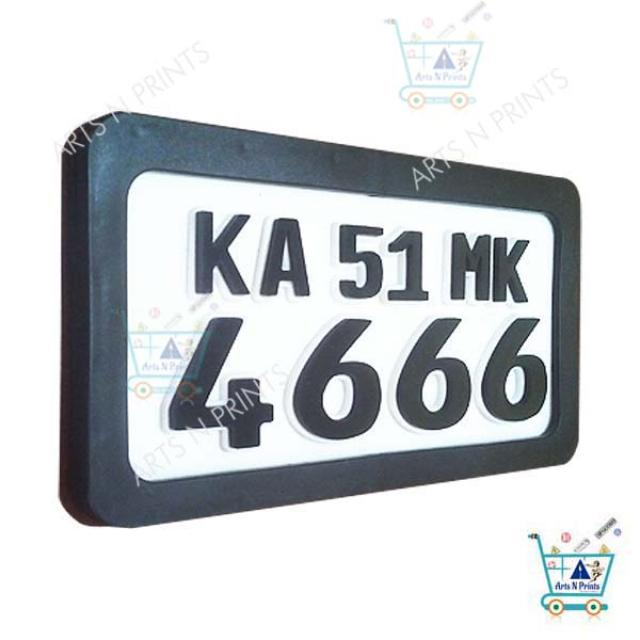plate: (99, 126, 584, 480)
